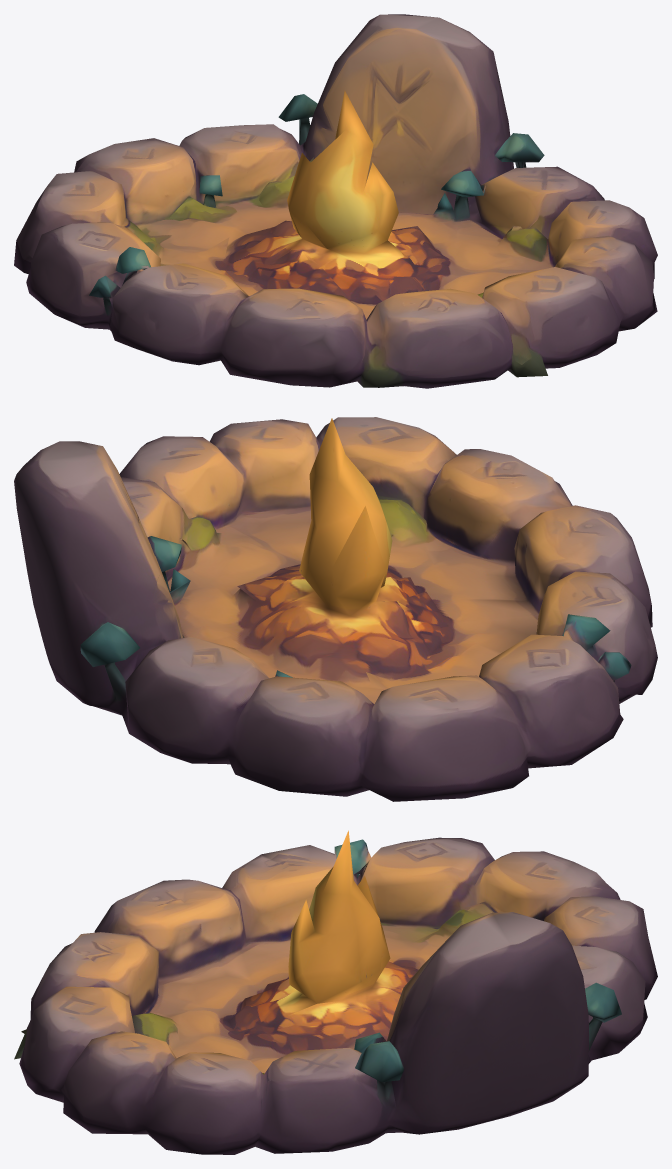
The model's file is prop_ocak.glb.
The picture shows the model from 3 angles, top to bottom: view 1: azimuth 30°, elevation 25°; view 2: azimuth 150°, elevation 25°; view 3: azimuth 270°, elevation 25°; orthographic projection. The views are drawn at different scales.
Parts seen in each view (by area): view 1: tripo_node_0100ee6a-d90b-430f-aff3-9d6ac678795e; view 2: tripo_node_0100ee6a-d90b-430f-aff3-9d6ac678795e; view 3: tripo_node_0100ee6a-d90b-430f-aff3-9d6ac678795e.
Part boxes in pixels (x1=…): tripo_node_0100ee6a-d90b-430f-aff3-9d6ac678795e: x1=14, y1=14, x2=657, y2=388; tripo_node_0100ee6a-d90b-430f-aff3-9d6ac678795e: x1=14, y1=417, x2=657, y2=801; tripo_node_0100ee6a-d90b-430f-aff3-9d6ac678795e: x1=14, y1=830, x2=657, y2=1154.
Size of the model in its own units: 0.9828 by 0.3472 by 1.
1 material, 1 textured.
